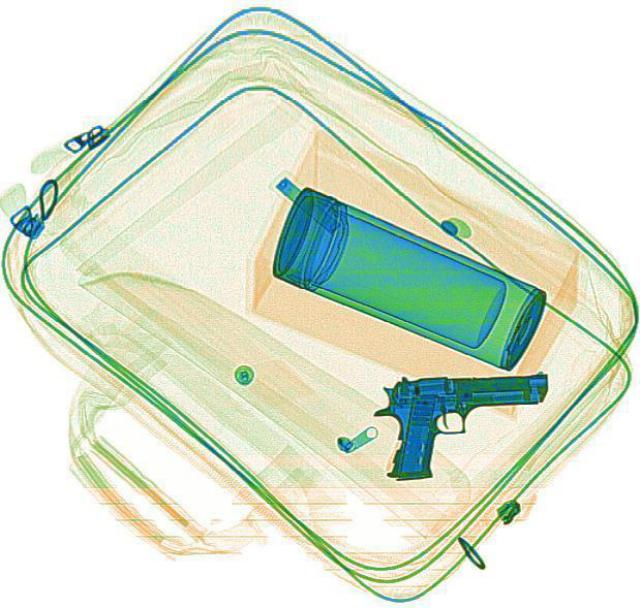Gun: (368, 368, 552, 479)
